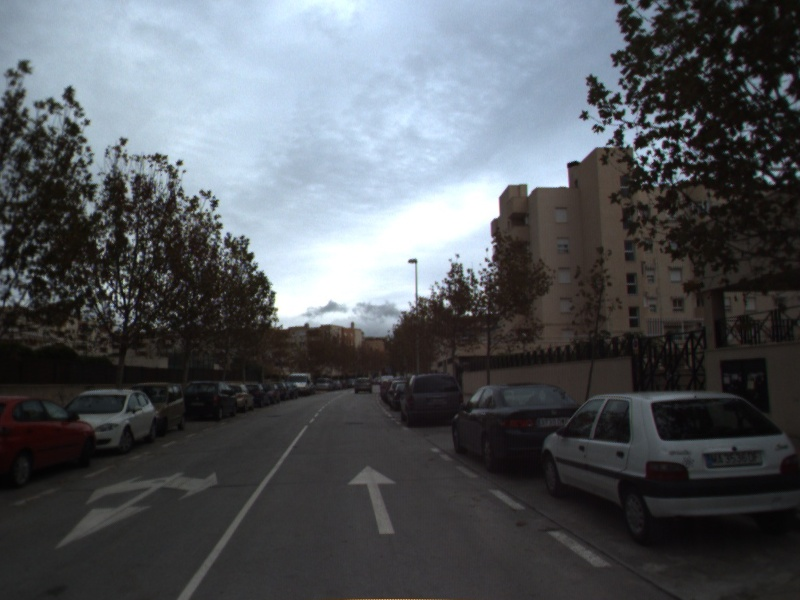STRAIGHT: (345, 463, 400, 536)
